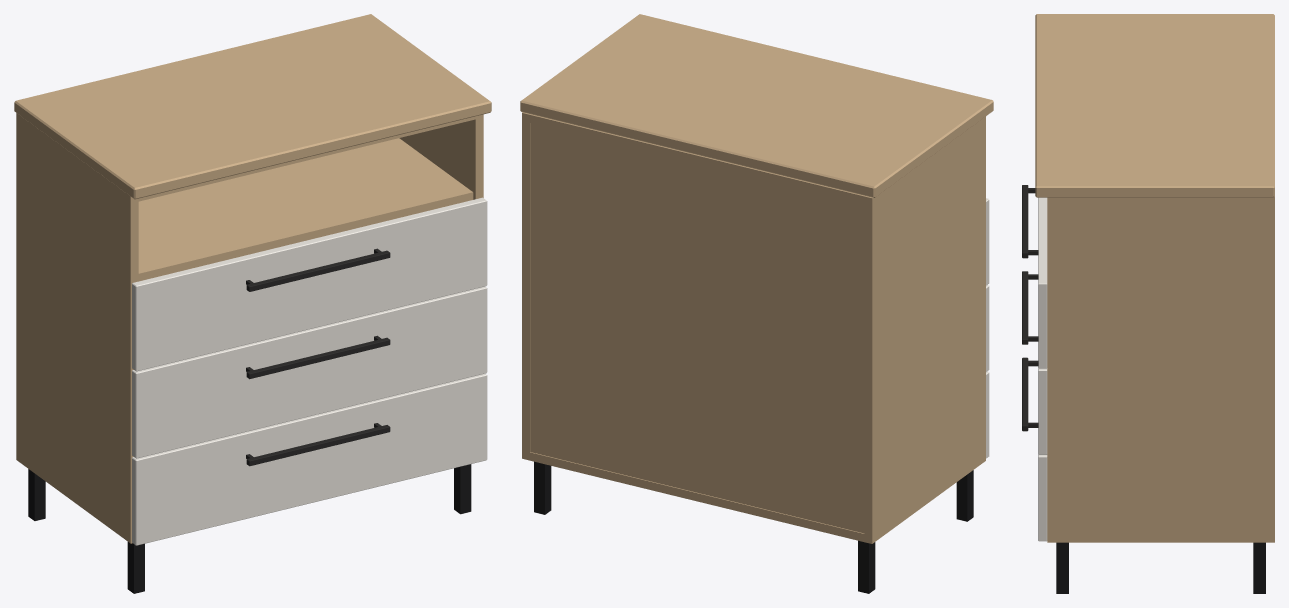
The model's file is 39_komoda_nisza_80.glb.
3 views of the same model, side by side, from view 1: azimuth 30°, elevation 25°; view 2: azimuth 150°, elevation 25°; view 3: azimuth 270°, elevation 25° (orthographic).
Visible parts, largest first — view 1: Korpus, Wierzch, Front_szuflada_2, Front_szuflada_3, Front_szuflada_4, Uchwyty, Nogi; view 2: Korpus, Wierzch, Nogi; view 3: Korpus, Wierzch, Uchwyty, Front_szuflada_2, Nogi, Front_szuflada_3, Front_szuflada_4.
Part boxes in pixels (x1,y1,x2,y2): Korpus: (16, 113, 483, 543); Wierzch: (14, 14, 491, 199); Front_szuflada_2: (132, 197, 487, 371); Front_szuflada_3: (132, 286, 487, 458); Front_szuflada_4: (132, 373, 487, 545); Uchwyty: (246, 248, 390, 466); Nogi: (28, 464, 471, 593); Korpus: (522, 112, 985, 543); Wierzch: (520, 14, 993, 197); Nogi: (534, 461, 973, 593); Korpus: (1047, 196, 1274, 542); Wierzch: (1035, 14, 1274, 197); Uchwyty: (1022, 185, 1038, 431); Front_szuflada_2: (1038, 197, 1047, 368); Nogi: (1056, 542, 1265, 593); Front_szuflada_3: (1038, 368, 1047, 454); Front_szuflada_4: (1038, 454, 1047, 541).
Bounding box in the file's own units: 0.812 × 0.9 × 0.5.
